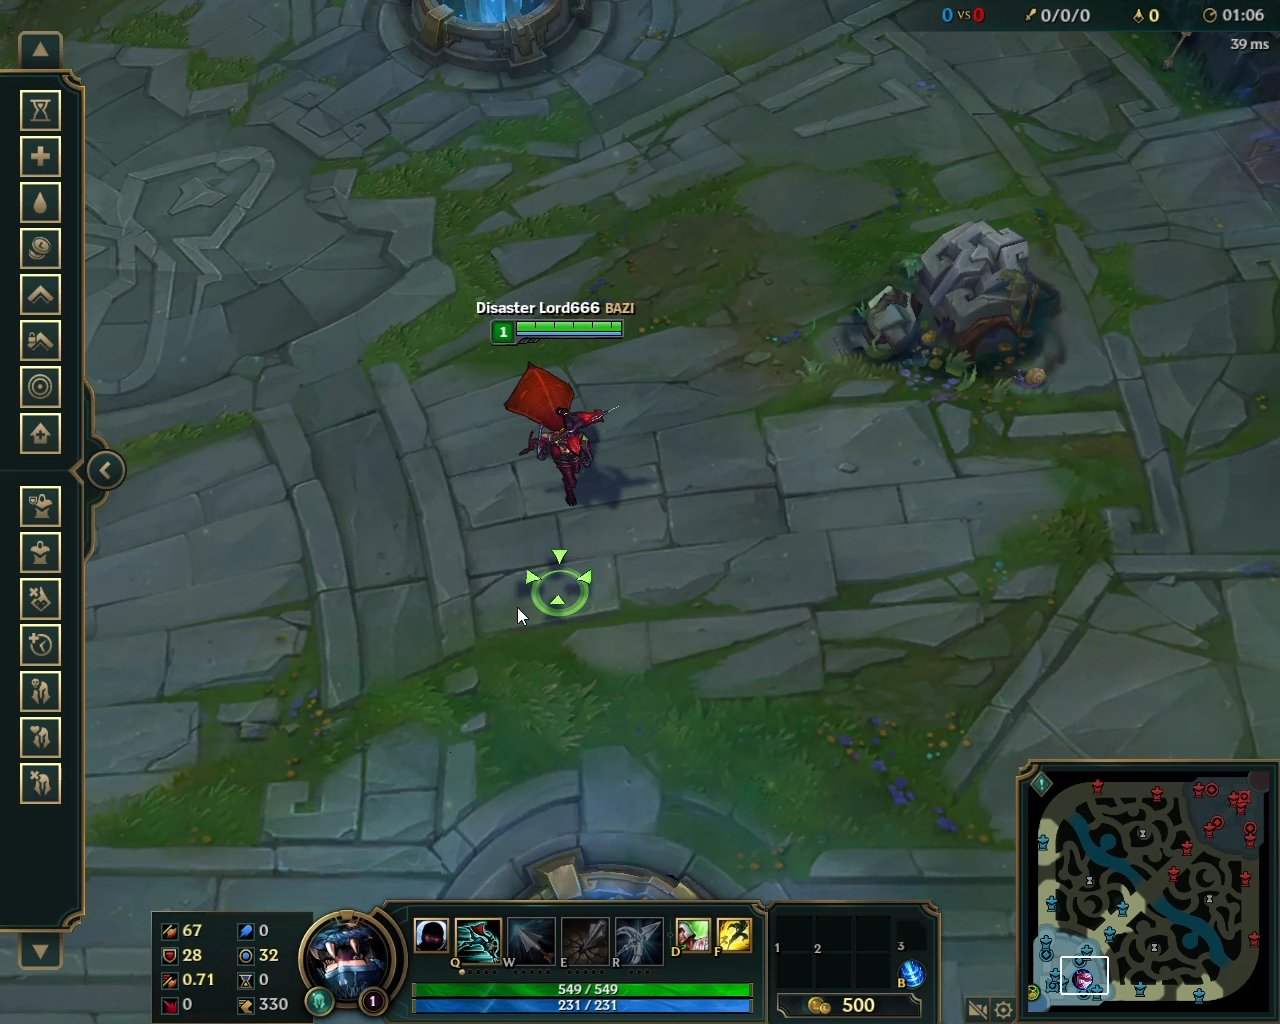Vayne: (501, 355, 627, 511)
